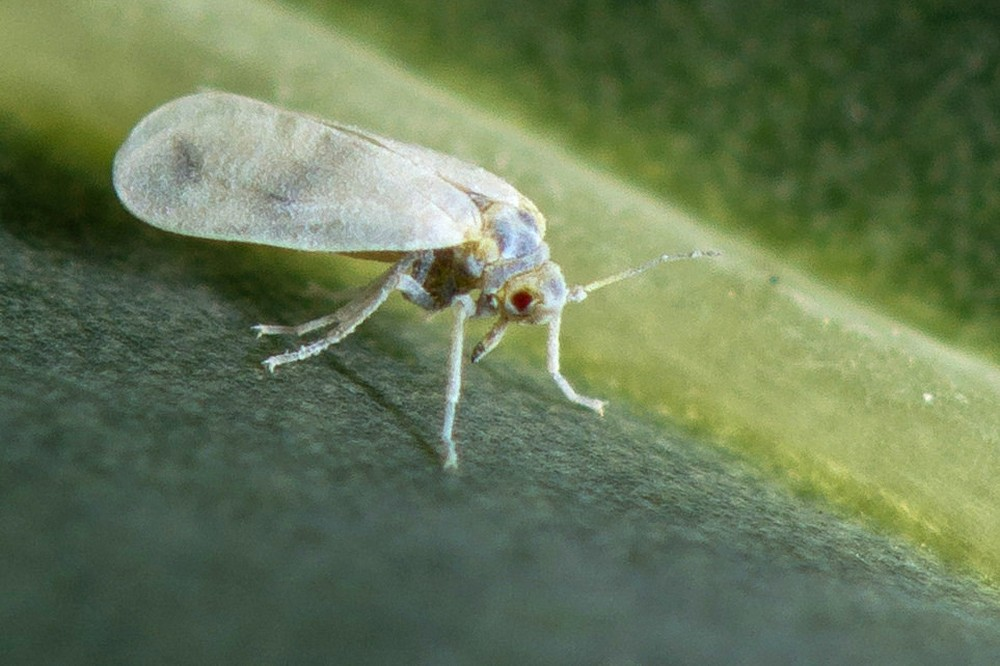Mosca Blanca: (101, 69, 725, 495)
